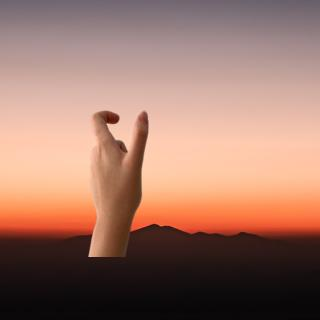Irritated: (70, 107, 161, 257)
